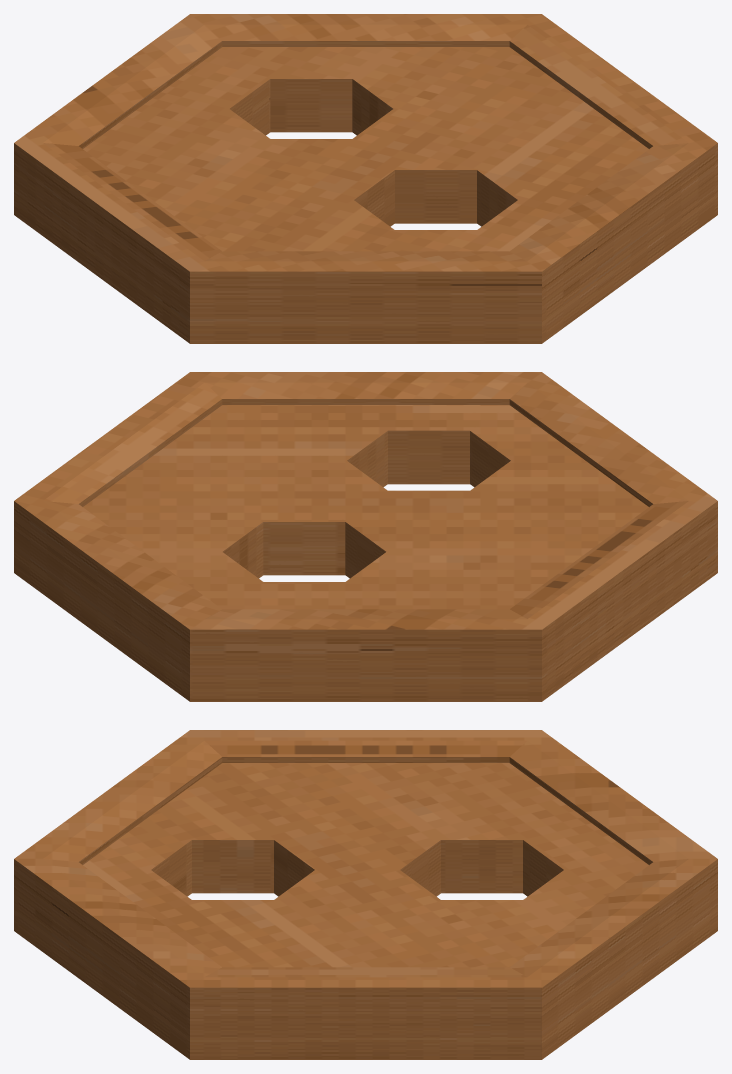
The model's file is Button.fbx.
3 renders of one model, top to bottom at view 1: azimuth 30°, elevation 25°; view 2: azimuth 150°, elevation 25°; view 3: azimuth 270°, elevation 25°, orthographic.
Visible parts, largest first — view 1: Cylinder.014; view 2: Cylinder.014; view 3: Cylinder.014.
Boxes of the visible parts, <box> form: Cylinder.014: <box>14,14,717,343</box>; Cylinder.014: <box>14,372,717,701</box>; Cylinder.014: <box>14,730,717,1059</box>.
Bounding box in the file's own units: 0.0126 × 0.00164 × 0.0145.
Materials: 1 (1 with a texture image).
